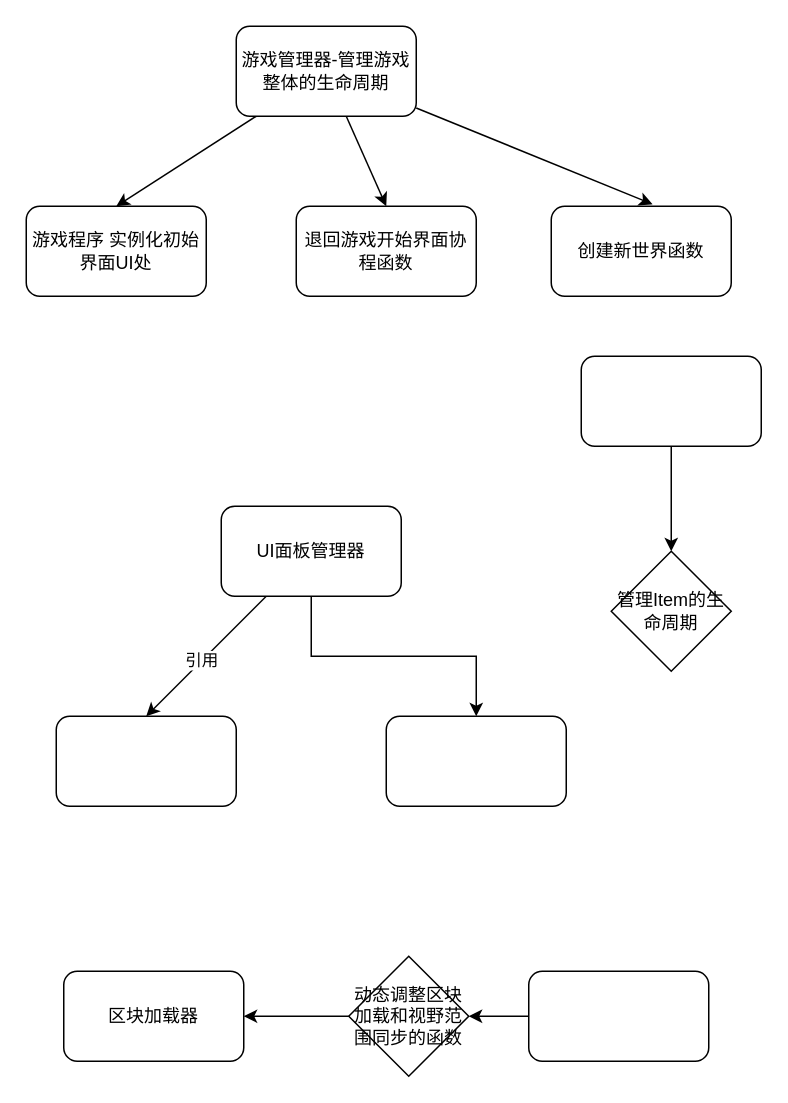
Image size: 788x1103. Some labels were removed from this diagram. Each missing label, with the centre of its shape:
BasePanel-游戏UI面板管理的最小单位,通常是UI元素的父对象: (x=145, y=760)
ItemMgr-管理游戏中所有Item生命周期的管理器: (x=670, y=400)
Item逻辑执行基类,管理对象的生命周期: (x=475, y=760)
玩家视野调整模块: (x=618, y=1015)
